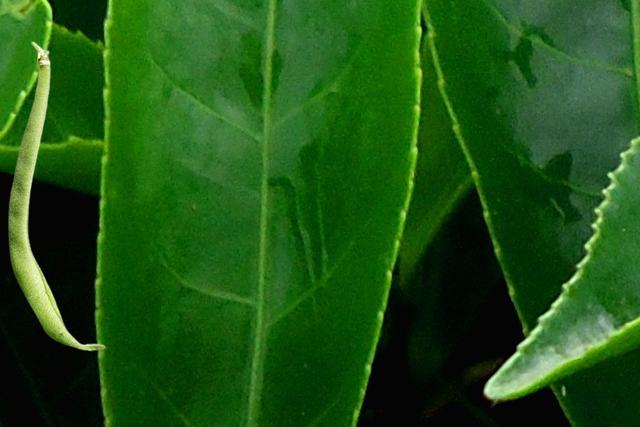french_bean: (8, 41, 105, 350)
